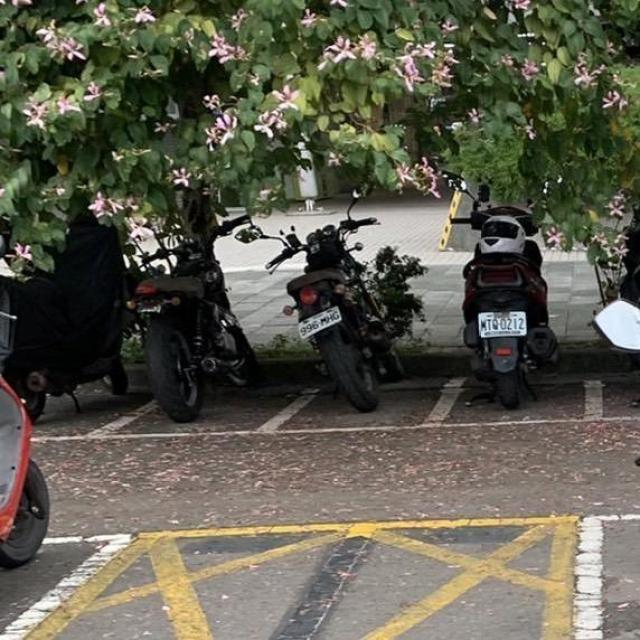W: (471, 304, 534, 342), (292, 304, 347, 340)
